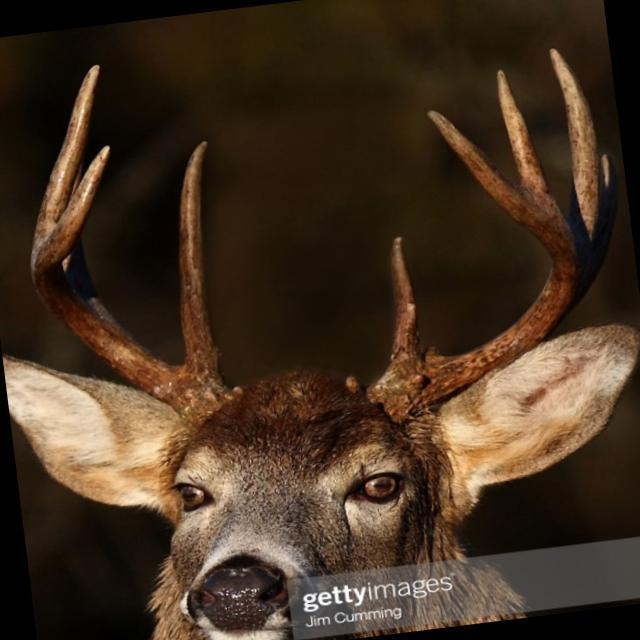L-F: (367, 108, 578, 418)
L-G1: (386, 235, 423, 369)
R-F: (30, 143, 224, 422)
R-G1: (177, 139, 221, 381)
